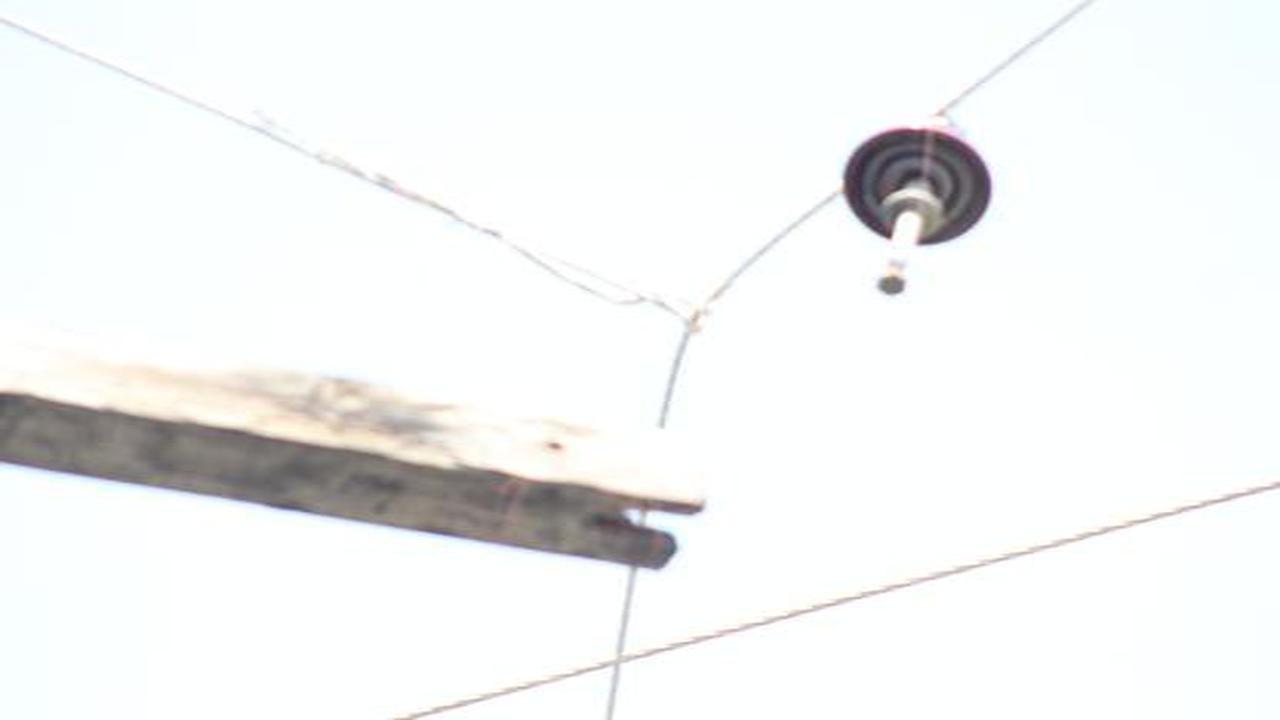insulator_pin: (842, 122, 995, 227)
